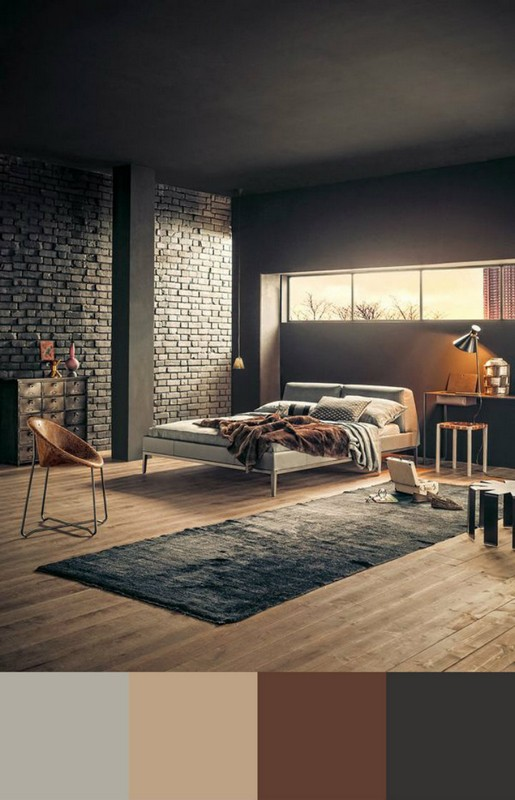bed: (149, 371, 422, 504)
chair: (19, 410, 110, 550)
lamp: (450, 316, 499, 395)
stool: (431, 408, 495, 484)
